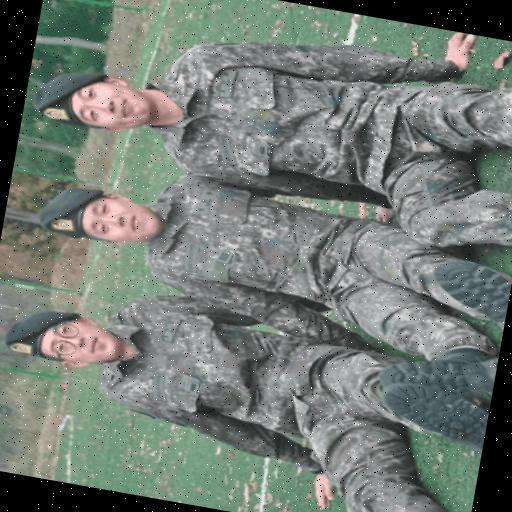korea army: (75, 0, 512, 512), (90, 9, 512, 503), (294, 90, 512, 378), (83, 272, 369, 476)
